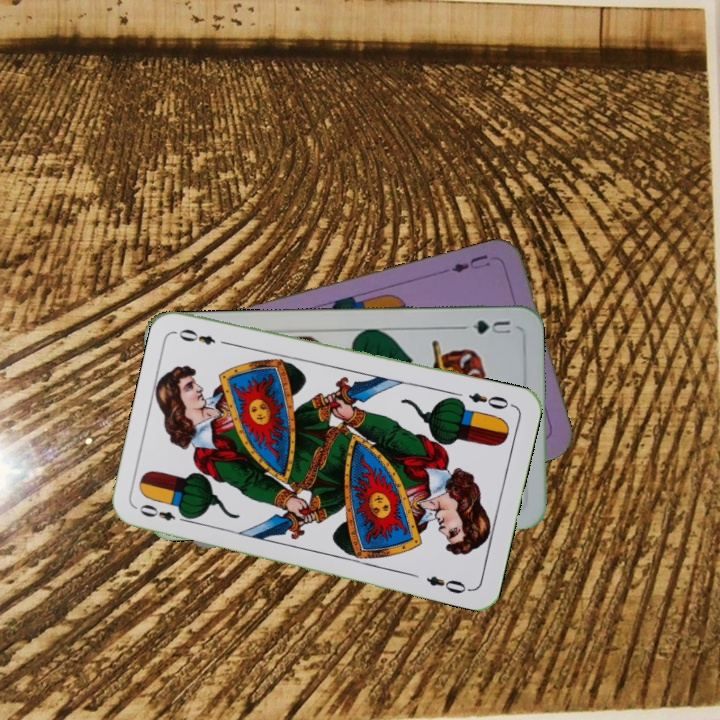EO: (135, 500, 192, 526), (464, 388, 516, 412)
EU: (447, 250, 493, 276)
GU: (467, 316, 513, 337)
